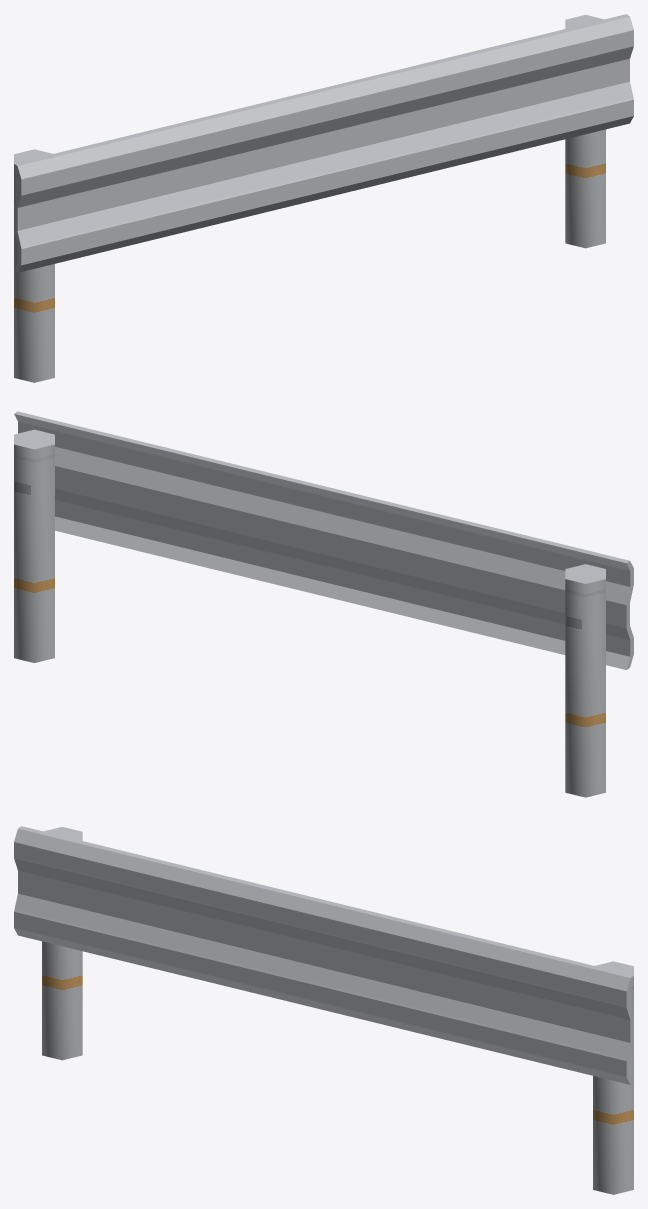
File: 02e2_Guardrail_3m.glb
3 views of the same model, one above another, from view 1: azimuth 30°, elevation 25°; view 2: azimuth 150°, elevation 25°; view 3: azimuth 330°, elevation 25° (orthographic).
Visible parts, largest first — view 1: part_0; view 2: part_0; view 3: part_0.
Boxes of the visible parts, x1,y1,x2,y2 form: part_0: (14,14,633,382); part_0: (14,411,633,797); part_0: (14,826,633,1194).
Size of the model in its own units: 3 by 1.05 by 0.2366.
Materials: 1 (1 with a texture image).
